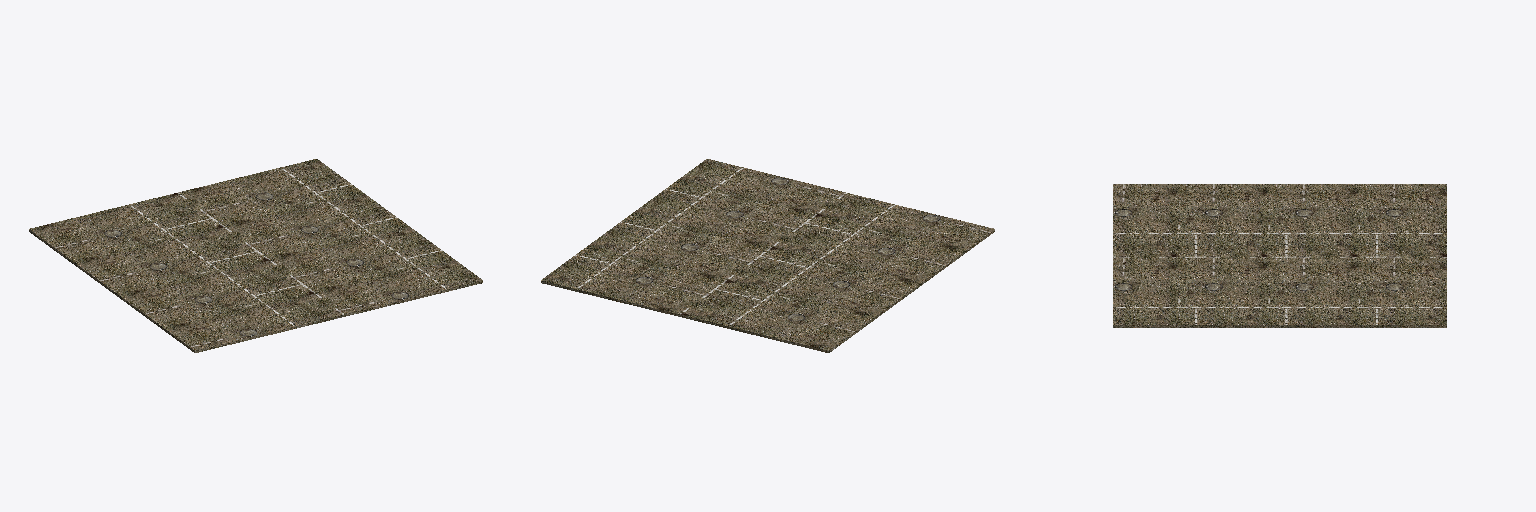
3 views of the same model, side by side, from view 1: azimuth 30°, elevation 25°; view 2: azimuth 150°, elevation 25°; view 3: azimuth 270°, elevation 25° (orthographic).
Size of the model in its own units: 60 by 0.5 by 60.
Materials: 1 (1 with a texture image).